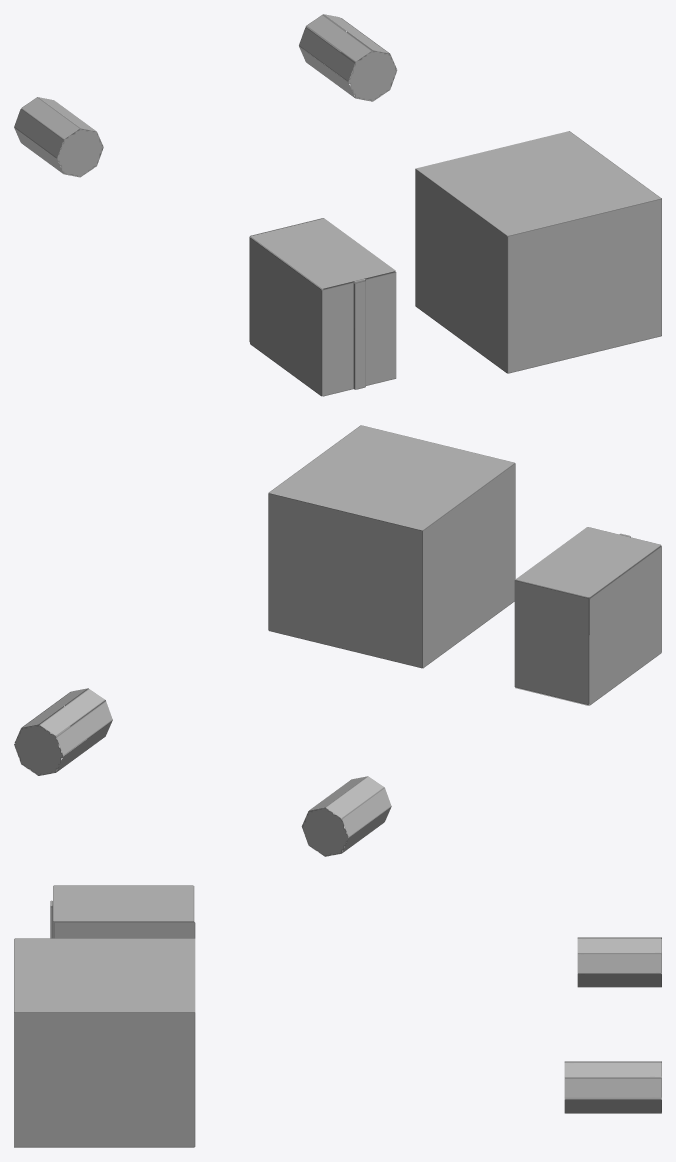
Rendered from contents_books_misc_02_54.obj.
3 renders of one model, top to bottom at view 1: azimuth 30°, elevation 25°; view 2: azimuth 150°, elevation 25°; view 3: azimuth 270°, elevation 25°, orthographic. The views are drawn at different scales.
Visible parts, largest first — view 1: contents_books_misc_02_54; view 2: contents_books_misc_02_54; view 3: contents_books_misc_02_54.
Boxes of the visible parts, box(x1,y1,x2,y2) form: contents_books_misc_02_54: box(14, 14, 661, 396); contents_books_misc_02_54: box(14, 425, 661, 856); contents_books_misc_02_54: box(14, 885, 661, 1147).
Size of the model in its own units: 0.588 by 0.23 by 1.
1 material, 1 textured.
